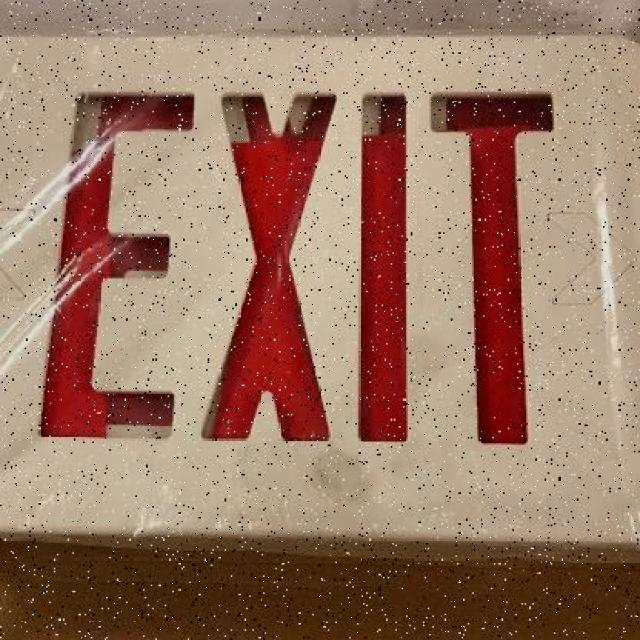emergency_exit: (1, 27, 638, 550), (37, 85, 557, 451), (39, 92, 195, 439), (429, 89, 555, 444)
